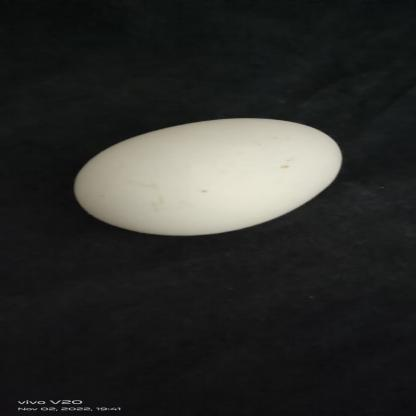egg: (75, 115, 341, 236)
